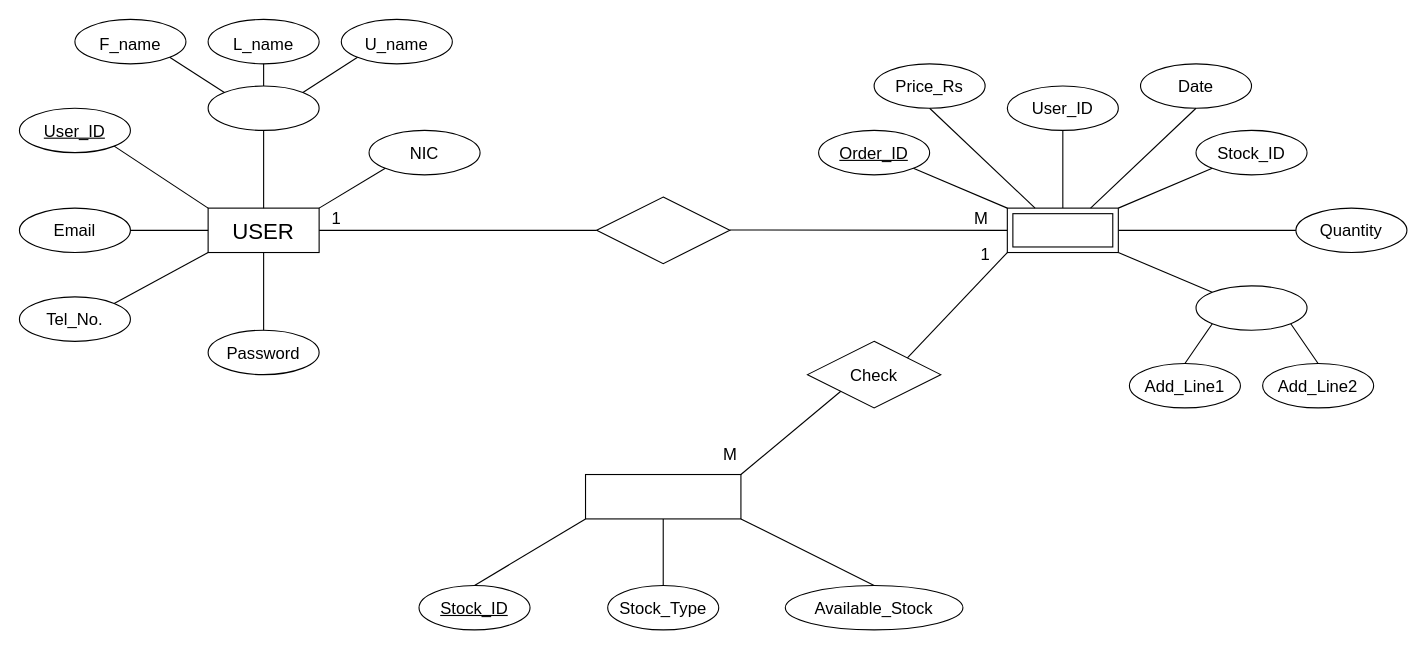
This 1426x649 diagram has some shape labels left out. The box of each missing label's shape, as (x1, y1, x2, y2) in pixels:
Location: (1195, 285, 1307, 330)
Makes: (596, 196, 730, 264)
Name: (207, 85, 319, 130)
ORDER: (1006, 207, 1118, 253)
STOCK: (584, 473, 741, 519)
